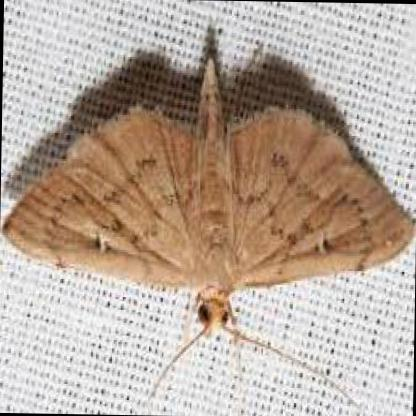Leaf Webber: (1, 48, 414, 337)
